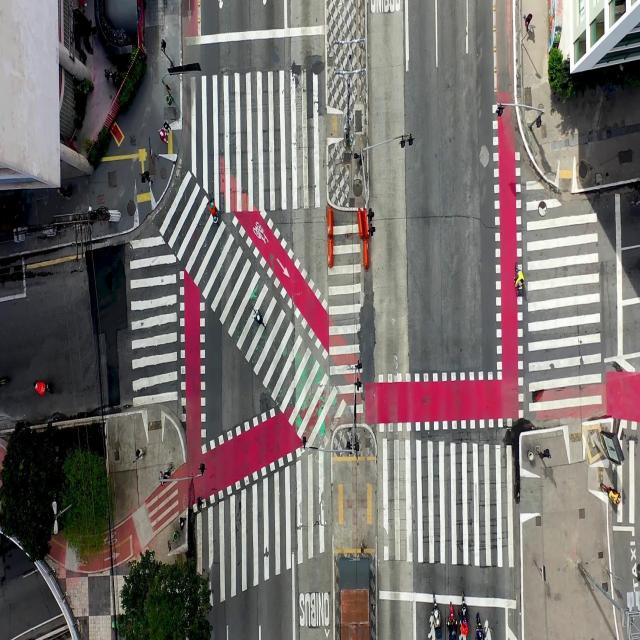Cycle: (426, 589, 441, 640), (460, 594, 472, 640), (251, 302, 268, 334), (33, 378, 60, 398), (208, 188, 220, 228), (447, 598, 458, 640), (475, 612, 487, 640)
